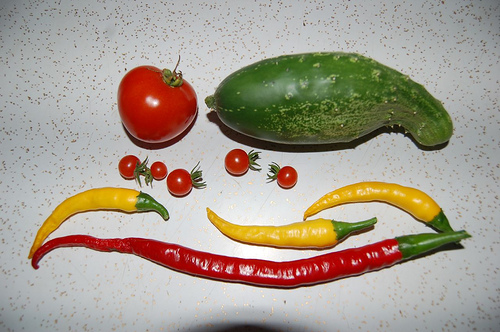cucumber: (203, 50, 455, 149)
